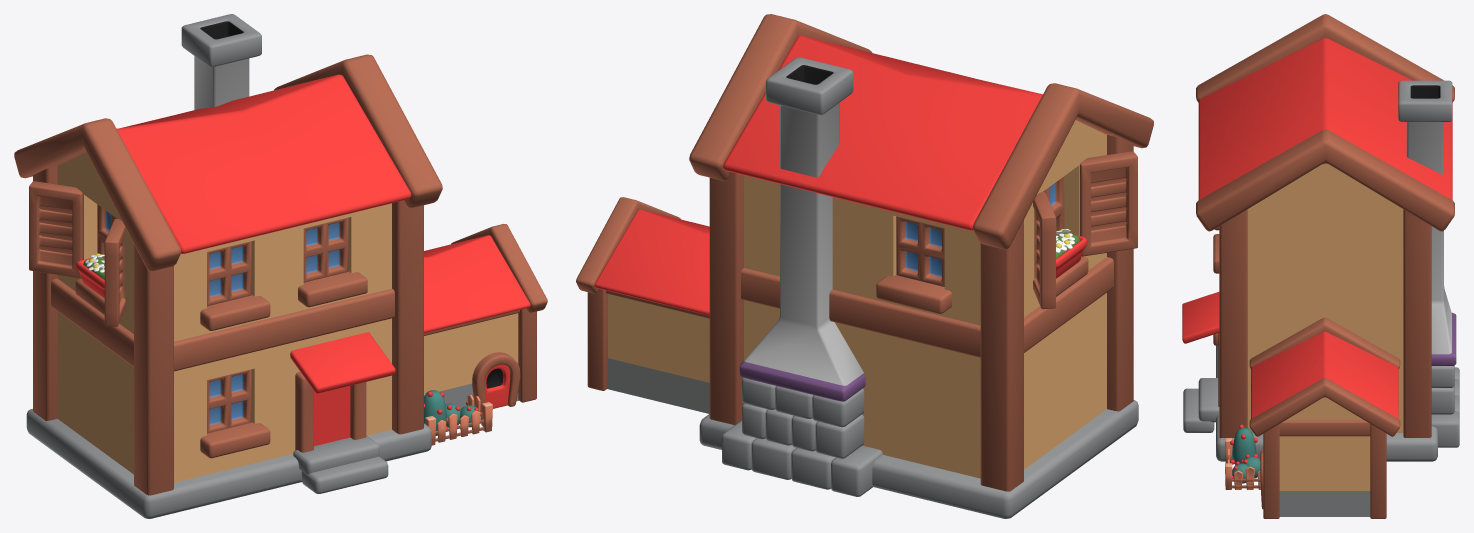
File: house5.fbx
The picture shows the model from 3 angles, left to right: view 1: azimuth 30°, elevation 25°; view 2: azimuth 150°, elevation 25°; view 3: azimuth 270°, elevation 25°; orthographic projection. The views are drawn at different scales.
Visible parts, largest first — view 1: house5; view 2: house5; view 3: house5.
Part boxes in pixels (left/top/right/bottom): house5: left=14, top=14, right=547, bottom=518; house5: left=576, top=14, right=1153, bottom=518; house5: left=1182, top=14, right=1459, bottom=518.
Size of the model in its own units: 488 by 384 by 293.
